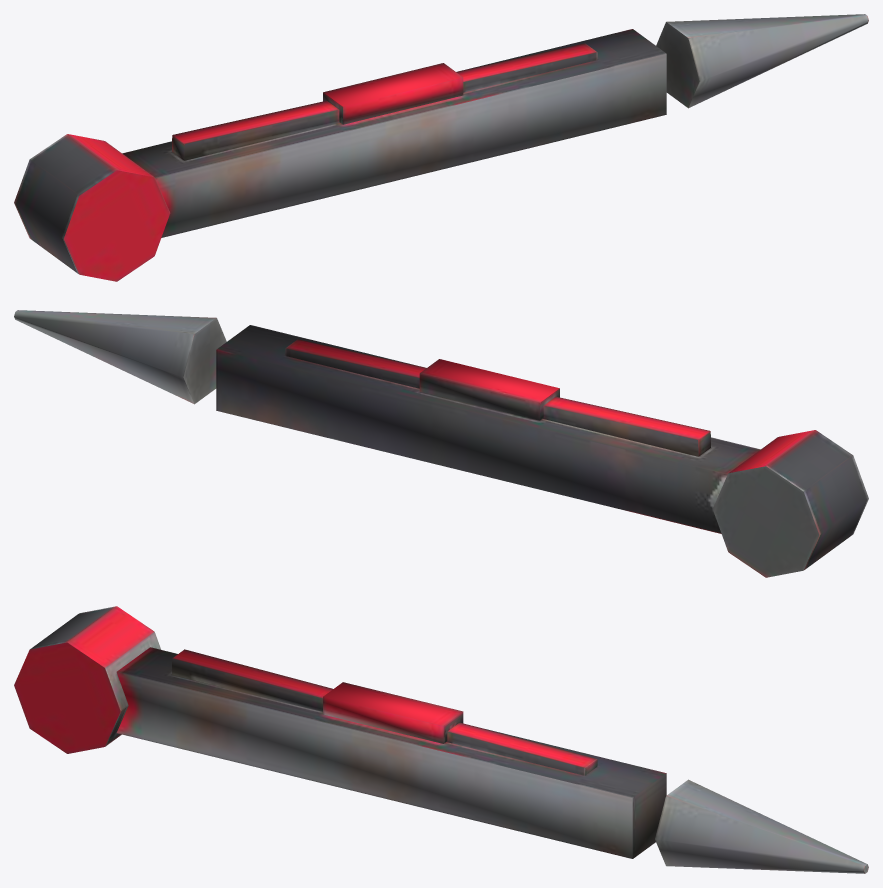
Rendered from aranha_tibia.glb.
3 views of the same model, one above another, from view 1: azimuth 30°, elevation 25°; view 2: azimuth 150°, elevation 25°; view 3: azimuth 330°, elevation 25° (orthographic).
Visible parts, largest first — view 1: aranha_tibia_corpo; view 2: aranha_tibia_corpo; view 3: aranha_tibia_corpo.
Part boxes in pixels (box(x1,y1,x2,y2)): aranha_tibia_corpo: box(14, 14, 868, 281); aranha_tibia_corpo: box(14, 310, 868, 577); aranha_tibia_corpo: box(14, 606, 868, 873).
Size of the model in its own units: 0.962 by 0.124 by 0.1.
Materials: 1 (1 with a texture image).
